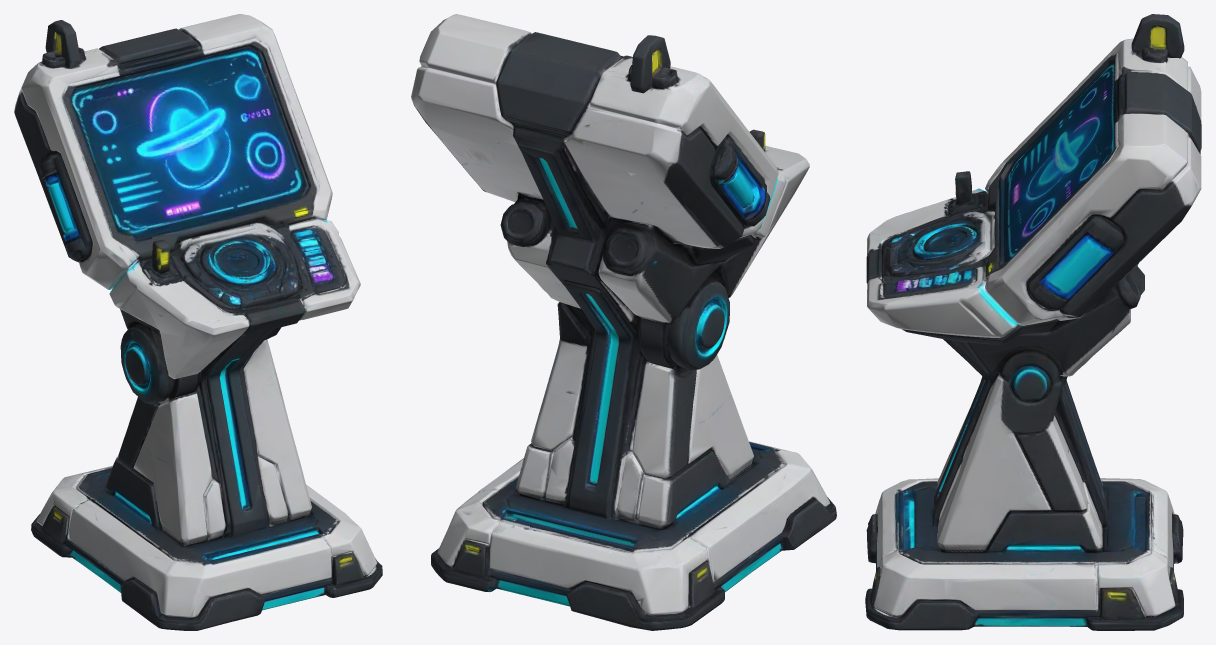
File: model-22-terminal.glb
The picture shows the model from 3 angles, left to right: view 1: azimuth 30°, elevation 25°; view 2: azimuth 150°, elevation 25°; view 3: azimuth 270°, elevation 25°; orthographic projection. The views are drawn at different scales.
Parts seen in each view (by area): view 1: node_0; view 2: node_0; view 3: node_0.
Part boxes in pixels (bbox=[...]): node_0: bbox=[14, 14, 382, 630]; node_0: bbox=[411, 14, 836, 630]; node_0: bbox=[865, 14, 1201, 630].
Size of the model in its own units: 0.5114 by 0.9889 by 0.5799.
1 material, 1 textured.
